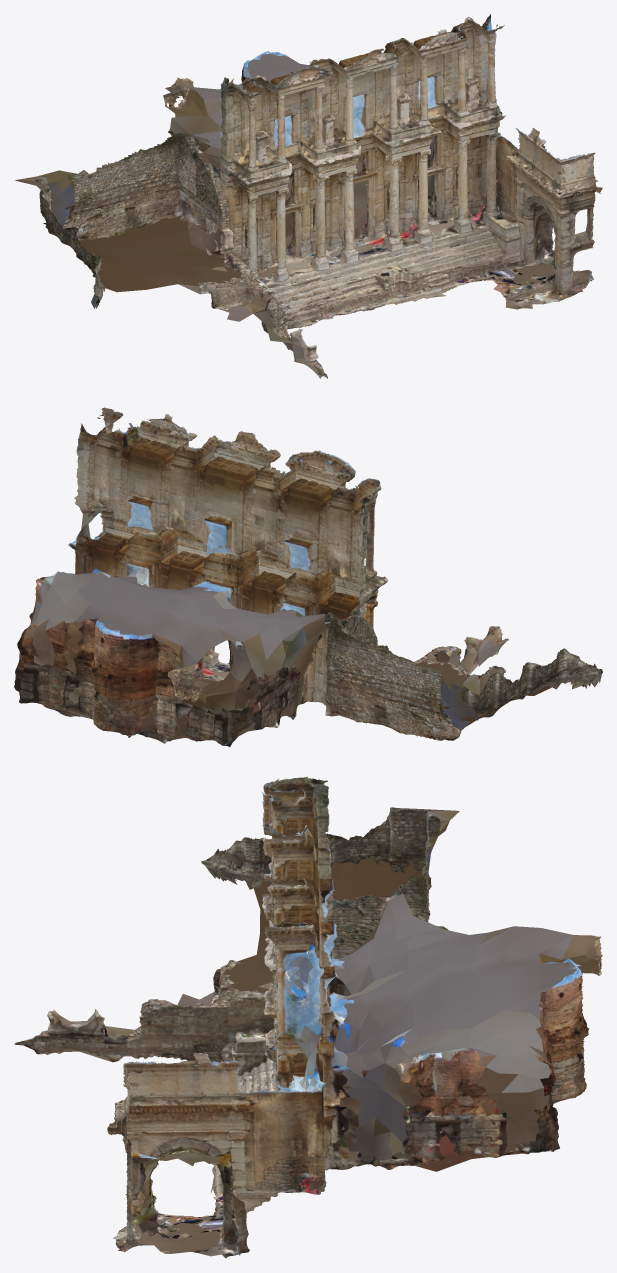
Rendered from celsus.glb.
3 views of the same model, one above another, from view 1: azimuth 30°, elevation 25°; view 2: azimuth 150°, elevation 25°; view 3: azimuth 270°, elevation 25° (orthographic). The views are drawn at different scales.
Visible parts, largest first — view 1: Object_2; view 2: Object_2; view 3: Object_2.
Part boxes in pixels (left/top/right/bottom): Object_2: left=15, top=14, right=602, bottom=378; Object_2: left=14, top=407, right=602, bottom=747; Object_2: left=14, top=776, right=602, bottom=1258.
Bounding box in the file's own units: 17.6 × 8.86 × 14.53.
1 material, 1 textured.
